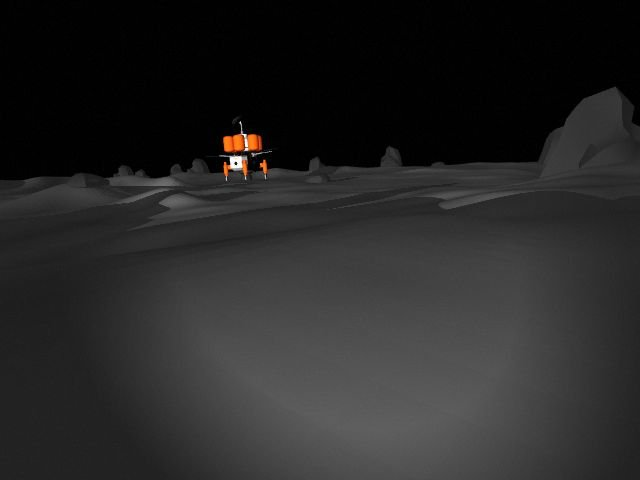homebase: (199, 113, 287, 181)
